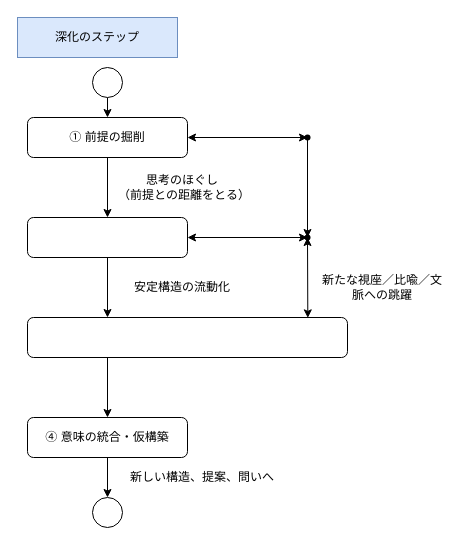
This 465x545 diagram has some shape labels left out. Each missing label, with the centre of its shape:
② 構造の揺さぶり: point (107, 237)
③ 視座の組み替え: point (187, 337)
